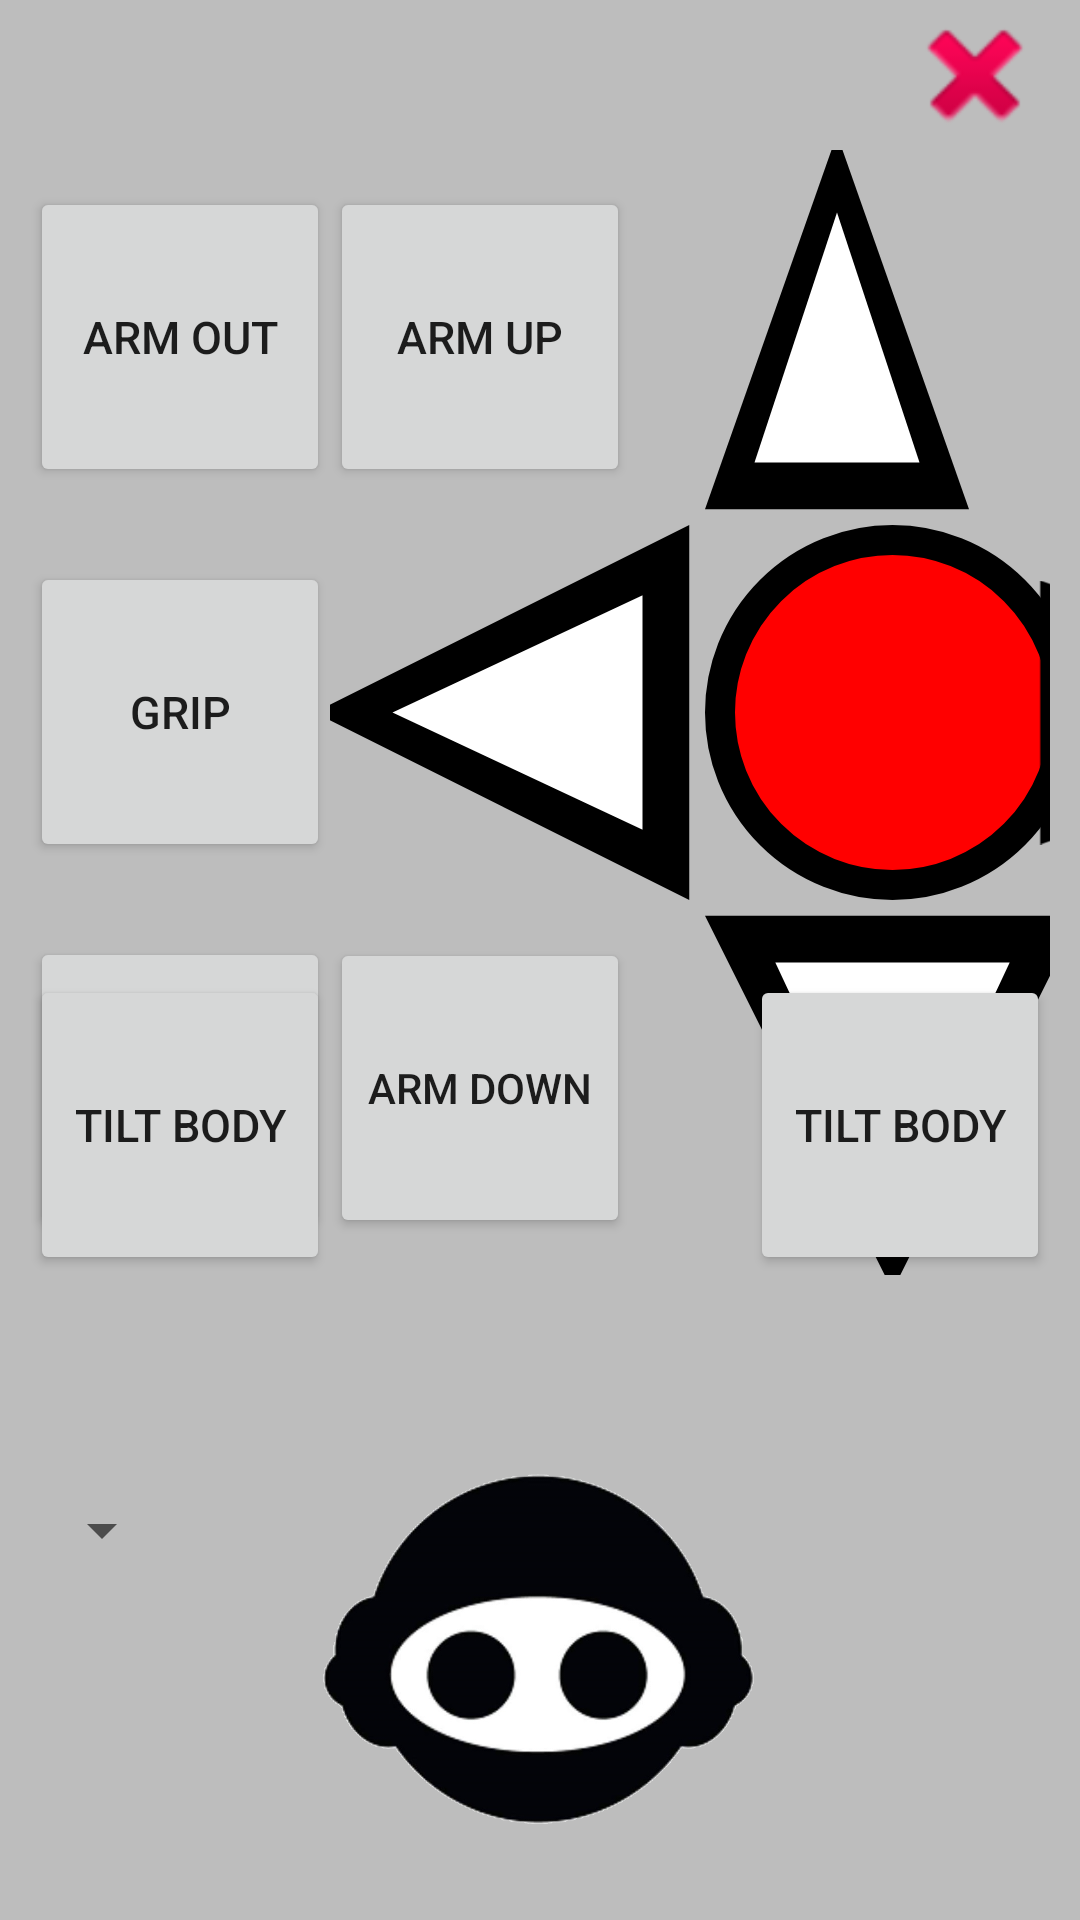

Where to tap for icons on this 1080*1920 app screen, as (x=x, y=y):
delete: (x=975, y=75)
